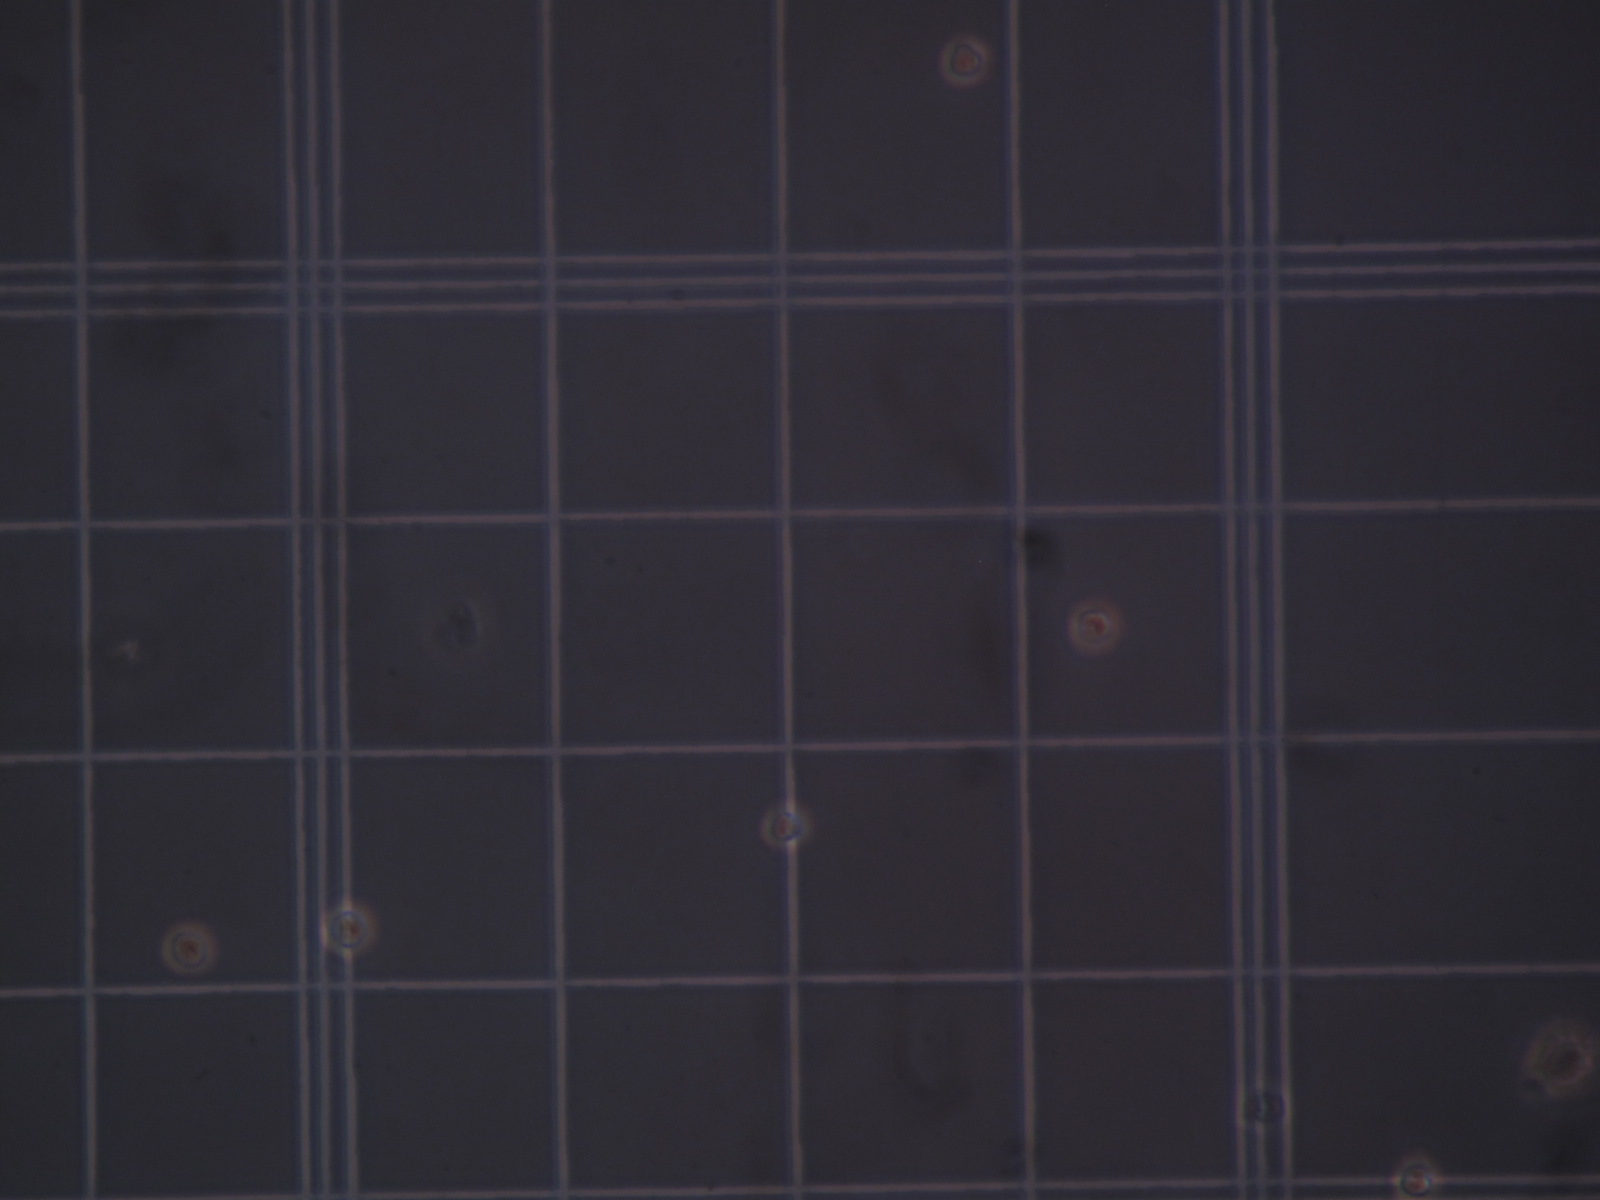hemo: (1524, 1021, 1596, 1098), (160, 921, 217, 976), (1067, 600, 1121, 654), (1235, 1082, 1293, 1131), (323, 903, 375, 955), (940, 35, 989, 86), (760, 804, 811, 850), (1390, 1155, 1440, 1200)
